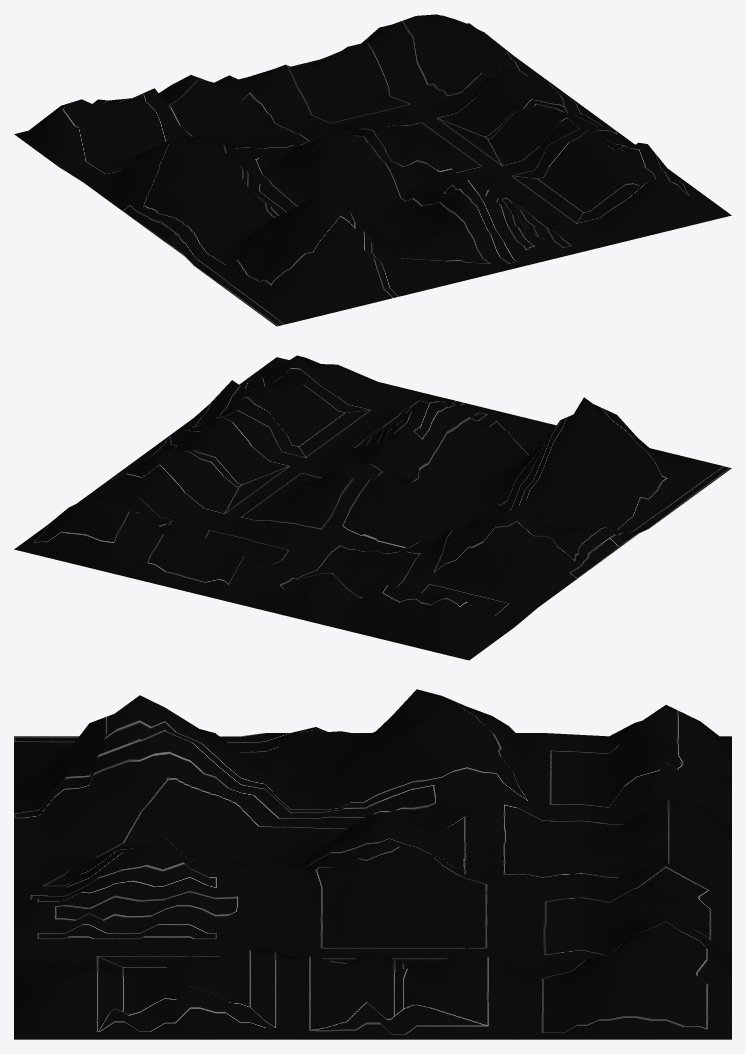
Rendered from Planner2.fbx.
The picture shows the model from 3 angles, top to bottom: view 1: azimuth 30°, elevation 25°; view 2: azimuth 150°, elevation 25°; view 3: azimuth 270°, elevation 25°; orthographic projection. The views are drawn at different scales.
Visible parts, largest first — view 1: pPlane1; view 2: pPlane1; view 3: pPlane1.
Part boxes in pixels (box(x1,y1,x2,y2)): pPlane1: box(14, 14, 731, 326); pPlane1: box(14, 355, 731, 660); pPlane1: box(14, 689, 731, 1039).
Size of the model in its own units: 281 by 47.18 by 281.
